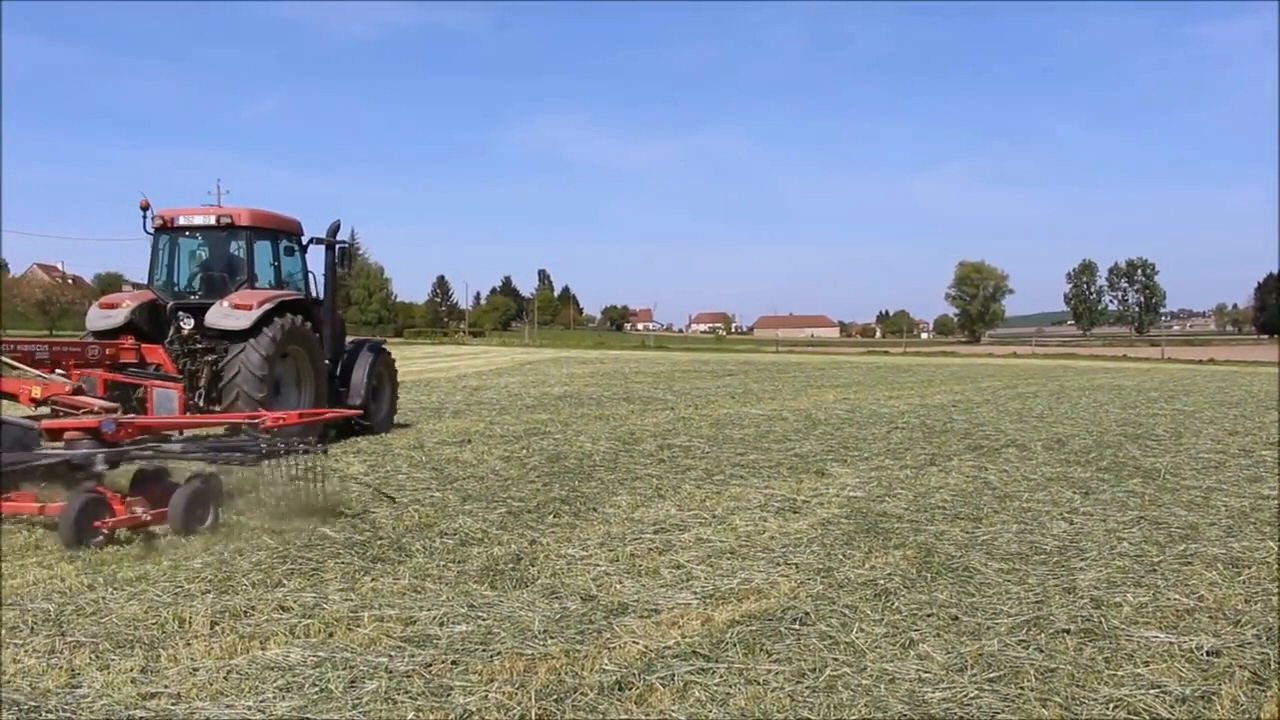traktor: (126, 204, 403, 432)
